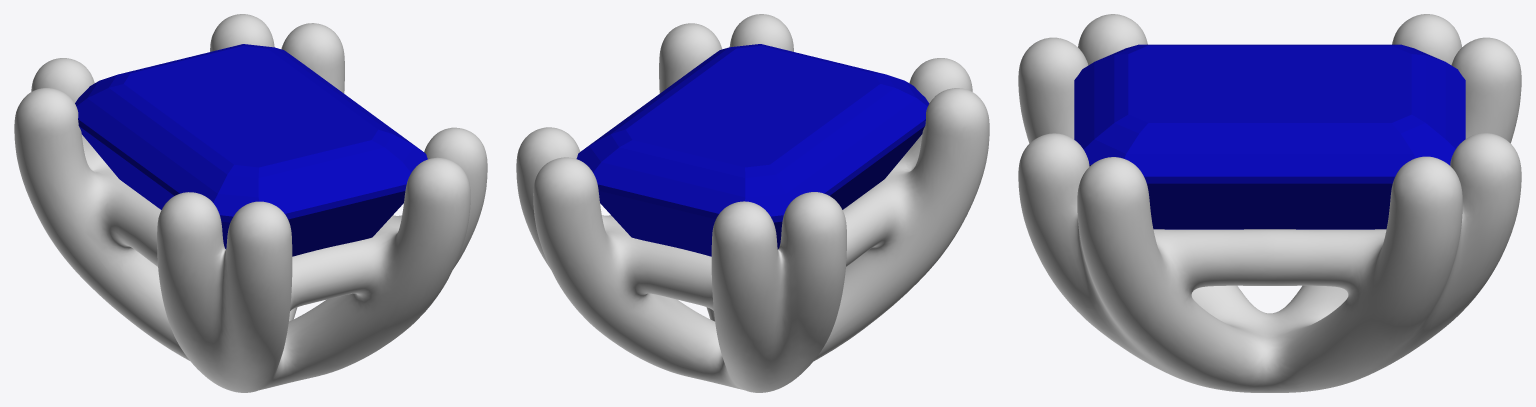
The model's file is Emerald.glb.
3 renders of one model, left to right at view 1: azimuth 30°, elevation 25°; view 2: azimuth 150°, elevation 25°; view 3: azimuth 270°, elevation 25°, orthographic. The views are drawn at different scales.
Visible parts, largest first — view 1: /GSMOD388300- DOUBLE PRONG_EMERALD_IJ.3dm, Diamond_Emerald; view 2: /GSMOD388300- DOUBLE PRONG_EMERALD_IJ.3dm, Diamond_Emerald; view 3: /GSMOD388300- DOUBLE PRONG_EMERALD_IJ.3dm, Diamond_Emerald.
Part boxes in pixels (left/top/right/bottom): /GSMOD388300- DOUBLE PRONG_EMERALD_IJ.3dm: left=14, top=14, right=487, bottom=392; Diamond_Emerald: left=75, top=44, right=427, bottom=256; /GSMOD388300- DOUBLE PRONG_EMERALD_IJ.3dm: left=516, top=14, right=989, bottom=392; Diamond_Emerald: left=576, top=44, right=929, bottom=256; /GSMOD388300- DOUBLE PRONG_EMERALD_IJ.3dm: left=1018, top=14, right=1521, bottom=392; Diamond_Emerald: left=1074, top=44, right=1465, bottom=229.
Bounding box in the file's own units: 8.08 × 6.54 × 9.93.
